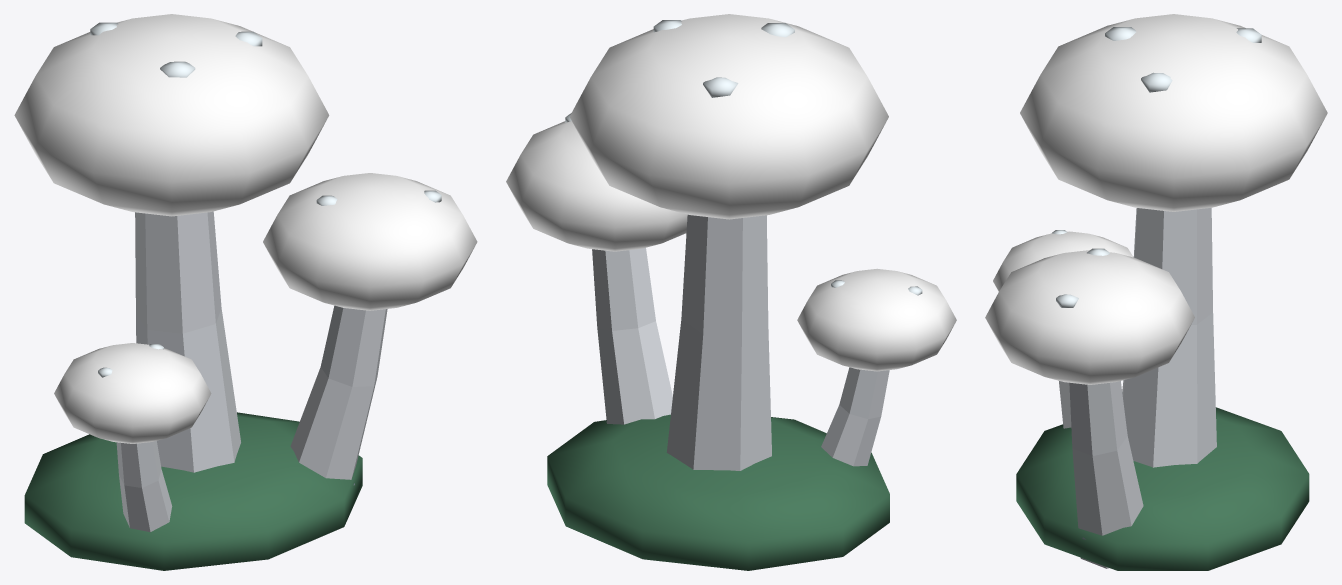
Rendered from GlowMushroomCluster.fbx.
The picture shows the model from 3 angles, left to right: view 1: azimuth 30°, elevation 25°; view 2: azimuth 150°, elevation 25°; view 3: azimuth 270°, elevation 25°; orthographic projection. The views are drawn at different scales.
Parts seen in each view (by area): view 1: Glow, Frame; view 2: Frame, Glow; view 3: Glow, Frame.
Part boxes in pixels (bbox=[...]): Glow: bbox=[14, 14, 477, 443]; Frame: bbox=[24, 22, 441, 570]; Frame: bbox=[547, 20, 922, 570]; Glow: bbox=[506, 14, 956, 371]; Glow: bbox=[985, 14, 1327, 384]; Frame: bbox=[1016, 27, 1309, 570].
Bounding box in the file's own units: 3.3 × 3.85 × 2.45.
1 material, 1 textured.
